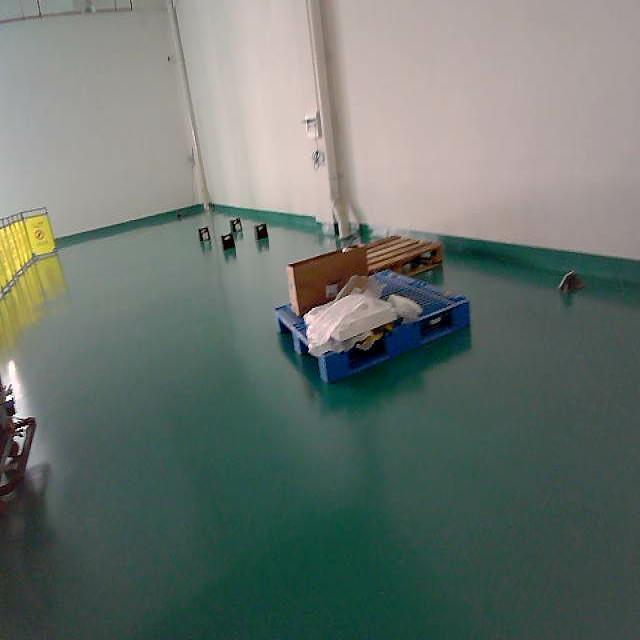euro: (363, 235, 444, 277)
